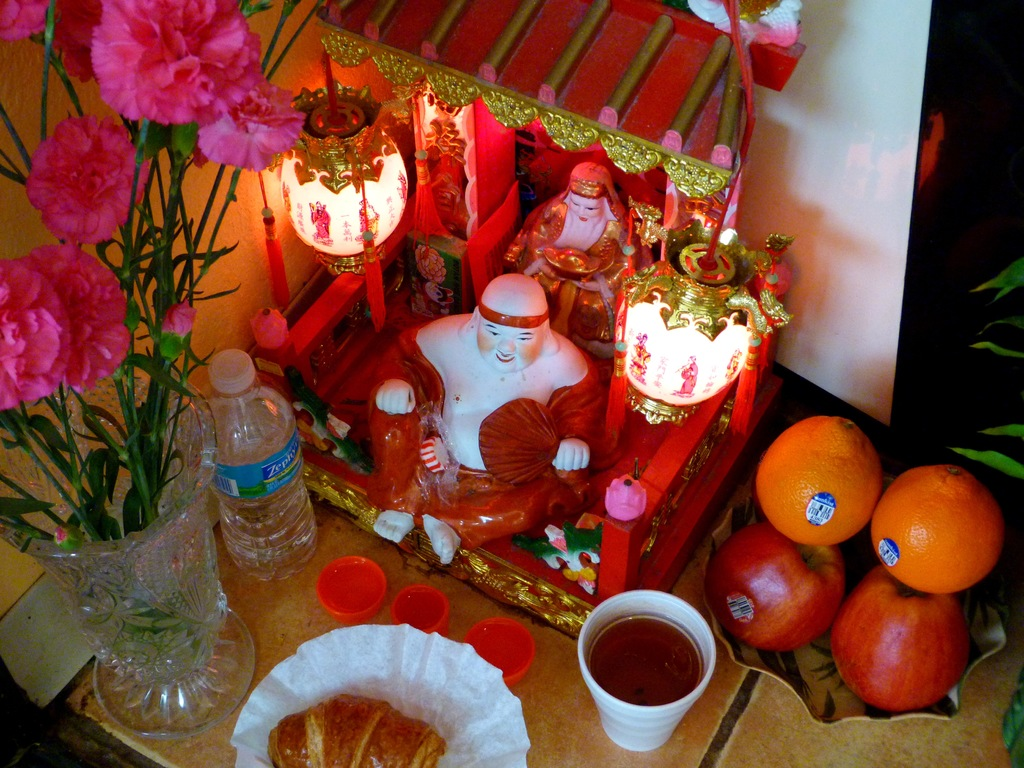Apple: (828, 563, 970, 713), (705, 533, 845, 652)
